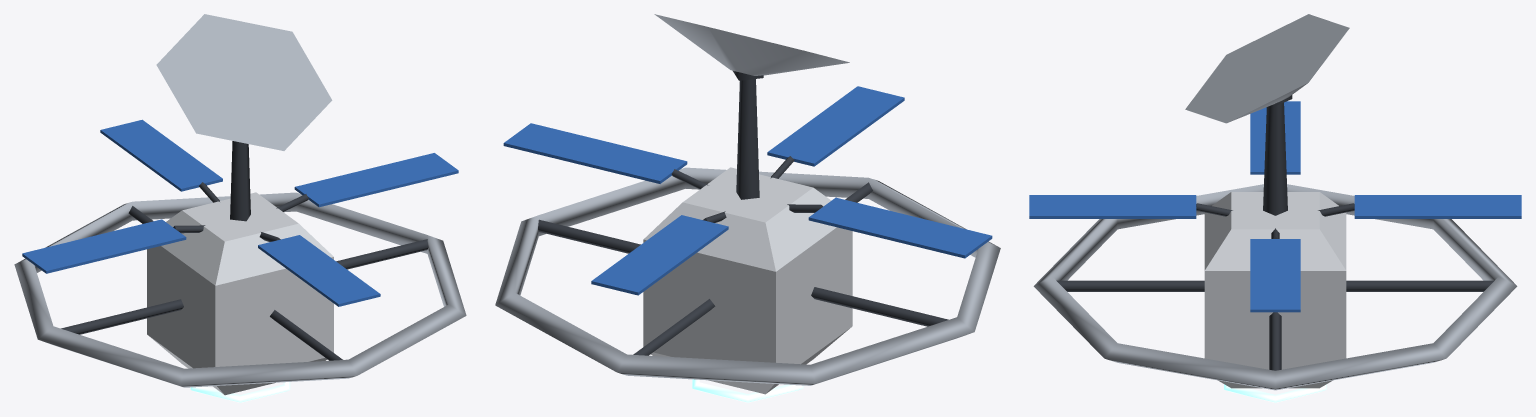
The model's file is ResearchLab_L2.glb.
3 views of the same model, side by side, from view 1: azimuth 30°, elevation 25°; view 2: azimuth 150°, elevation 25°; view 3: azimuth 270°, elevation 25° (orthographic). The views are drawn at different scales.
Parts seen in each view (by area): view 1: lab_core, deep_space_dish, observation_ring, solar_array_L, solar_array_R, solar_array_aft_R, solar_array_aft_L, mast, spoke_2, spoke_0, containment_ring, spoke_1; view 2: lab_core, observation_ring, solar_array_L, solar_array_R, solar_array_aft_L, solar_array_aft_R, deep_space_dish, mast, spoke_2, spoke_0, containment_ring, spoke_3; view 3: lab_core, observation_ring, deep_space_dish, solar_array_aft_R, solar_array_aft_L, solar_array_R, mast, solar_array_L, spoke_1, spoke_3, containment_ring, spoke_0.
Part boxes in pixels (bbox=[...]): lab_core: bbox=[147, 192, 333, 395]; deep_space_dish: bbox=[156, 14, 332, 150]; observation_ring: bbox=[14, 192, 466, 387]; solar_array_L: bbox=[22, 219, 186, 273]; solar_array_R: bbox=[294, 153, 458, 207]; solar_array_aft_R: bbox=[258, 235, 380, 306]; solar_array_aft_L: bbox=[100, 119, 222, 191]; mast: bbox=[230, 141, 250, 221]; spoke_2: bbox=[61, 299, 183, 334]; spoke_0: bbox=[336, 239, 428, 269]; containment_ring: bbox=[190, 382, 290, 402]; spoke_1: bbox=[270, 310, 342, 360]; lab_core: bbox=[643, 167, 852, 394]; observation_ring: bbox=[495, 167, 1000, 385]; solar_array_L: bbox=[808, 197, 992, 258]; solar_array_R: bbox=[503, 123, 687, 183]; solar_array_aft_L: bbox=[591, 215, 728, 295]; solar_array_aft_R: bbox=[767, 86, 904, 166]; deep_space_dish: bbox=[654, 14, 849, 75]; mast: bbox=[736, 79, 759, 199]; spoke_2: bbox=[811, 287, 948, 326]; spoke_0: bbox=[538, 219, 640, 253]; containment_ring: bbox=[692, 379, 803, 402]; spoke_3: bbox=[633, 299, 715, 355]; lab_core: bbox=[1204, 192, 1346, 388]; observation_ring: bbox=[1033, 184, 1517, 390]; deep_space_dish: bbox=[1185, 14, 1349, 123]; solar_array_aft_R: bbox=[1029, 195, 1196, 218]; solar_array_aft_L: bbox=[1354, 195, 1521, 218]; solar_array_R: bbox=[1250, 239, 1300, 312]; mast: bbox=[1263, 102, 1287, 215]; solar_array_L: bbox=[1250, 101, 1300, 174]; spoke_1: bbox=[1056, 280, 1204, 291]; spoke_3: bbox=[1346, 280, 1494, 291]; containment_ring: bbox=[1224, 384, 1326, 402]; spoke_0: bbox=[1269, 312, 1281, 370].
Bounding box in the file's own units: 271 × 215 × 271.
